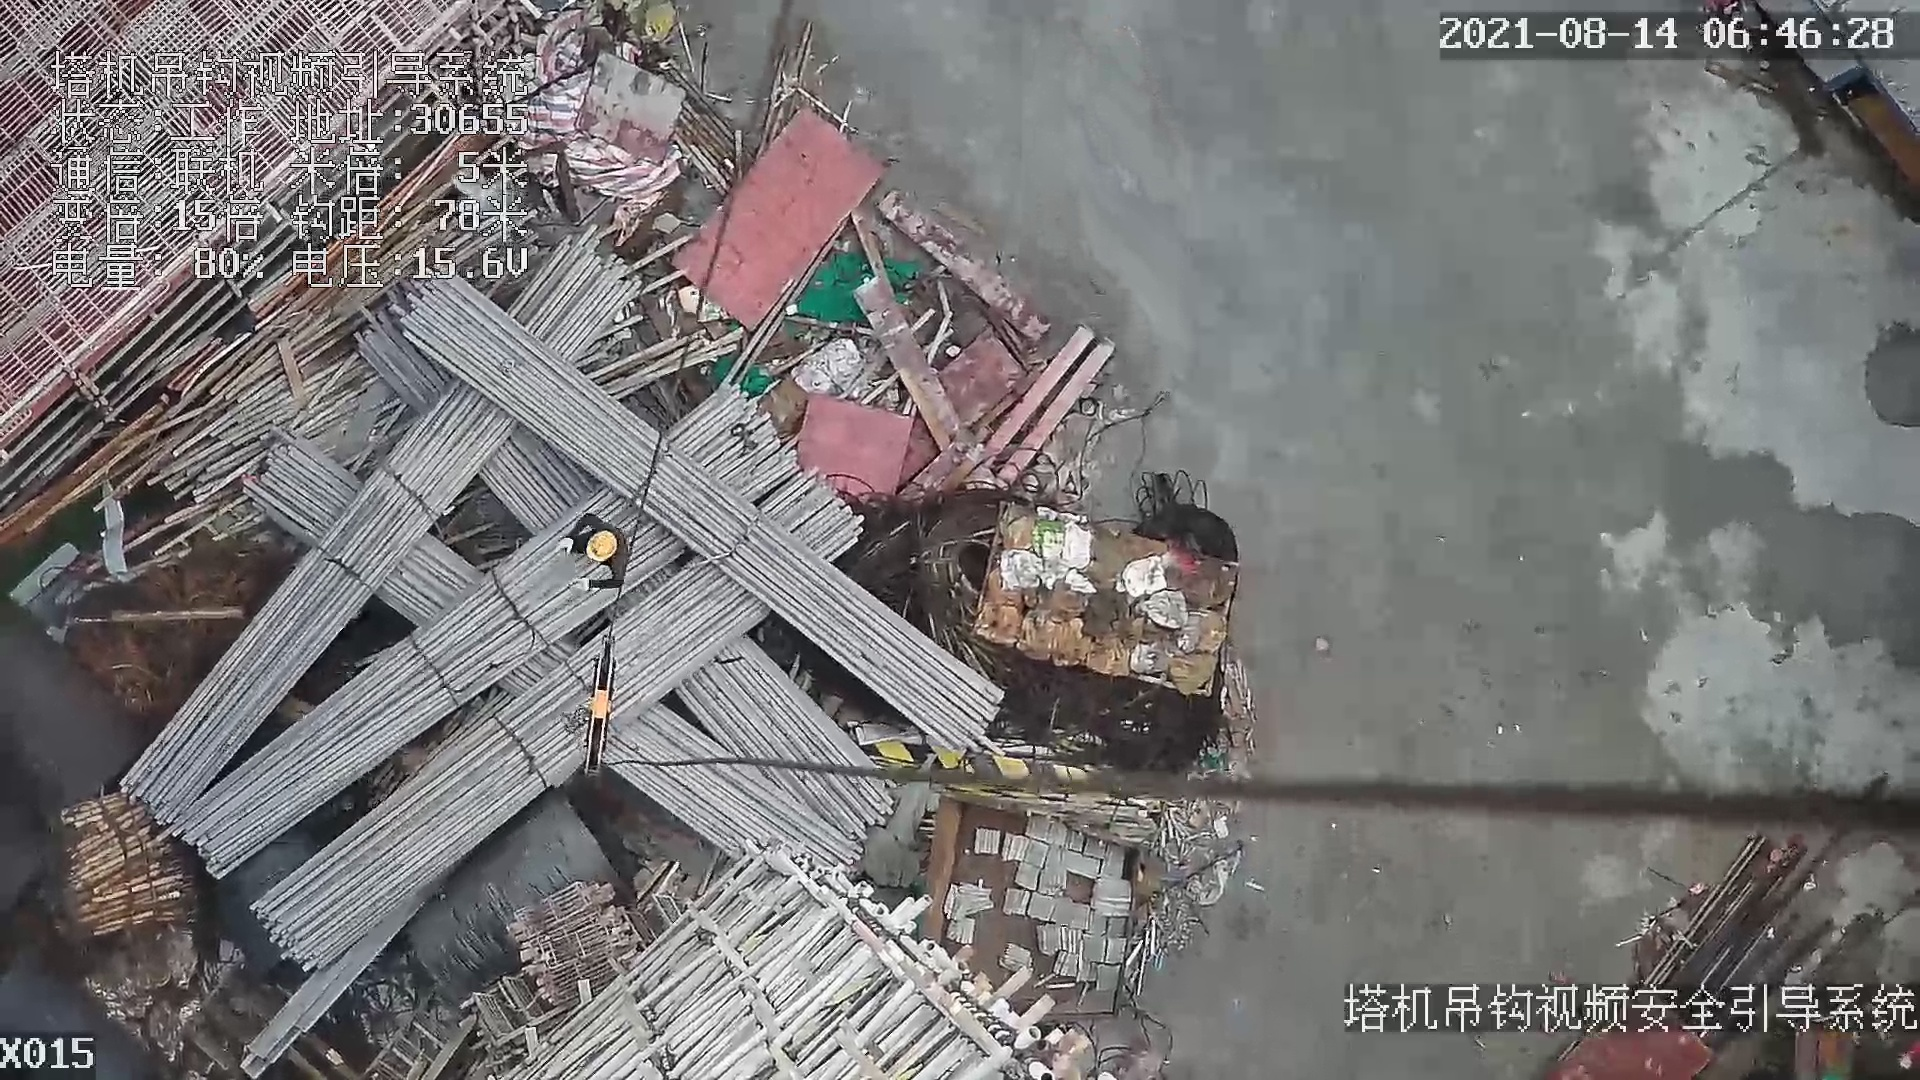board: (674, 101, 881, 337)
helmet: (588, 532, 618, 561)
hook: (581, 642, 622, 780)
person: (555, 517, 631, 596)
scaffold: (60, 795, 186, 935)
